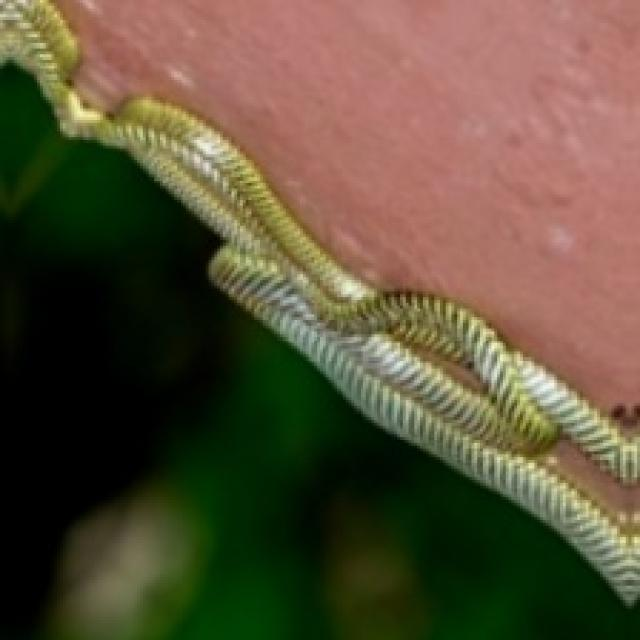paradise tree snake: (0, 0, 637, 597), (49, 343, 326, 637), (0, 197, 217, 497), (326, 466, 629, 637)
